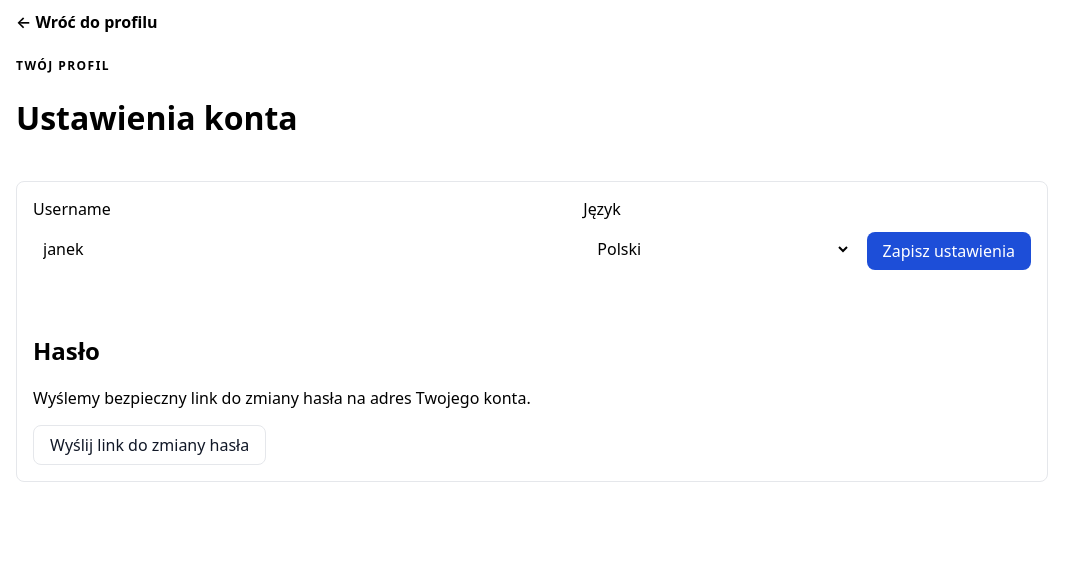
Test: ProfileSettingsPage › sends a password reset link to the account email
Click the button "Wyślij link do zmiany hasła": (150, 445) [33, 425, 266, 465]
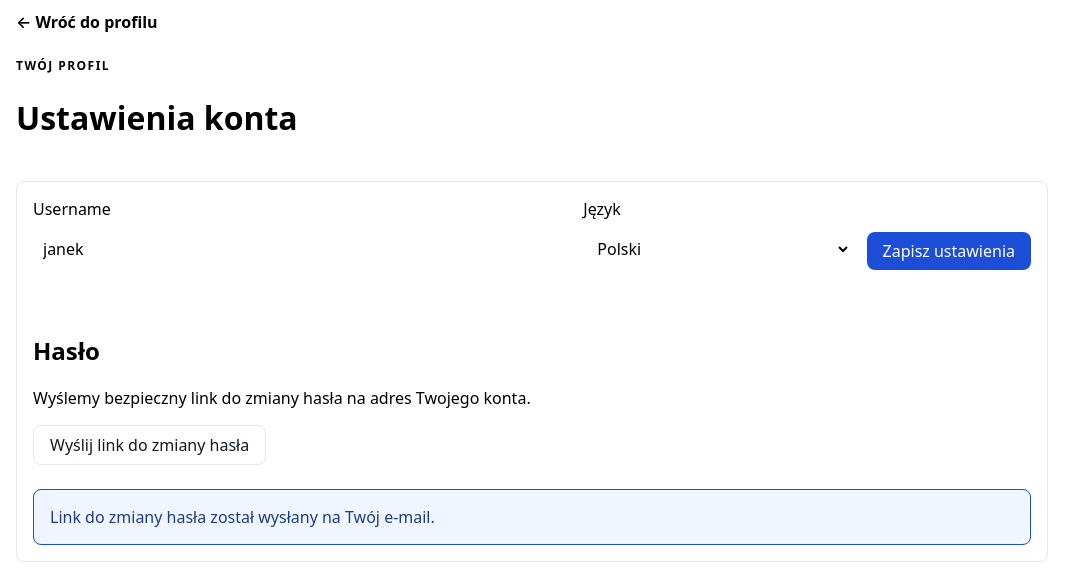
Expected: the text "Link do zmiany hasła został wysłany na Twój e-mail." is shown, [33, 489, 1031, 545]
